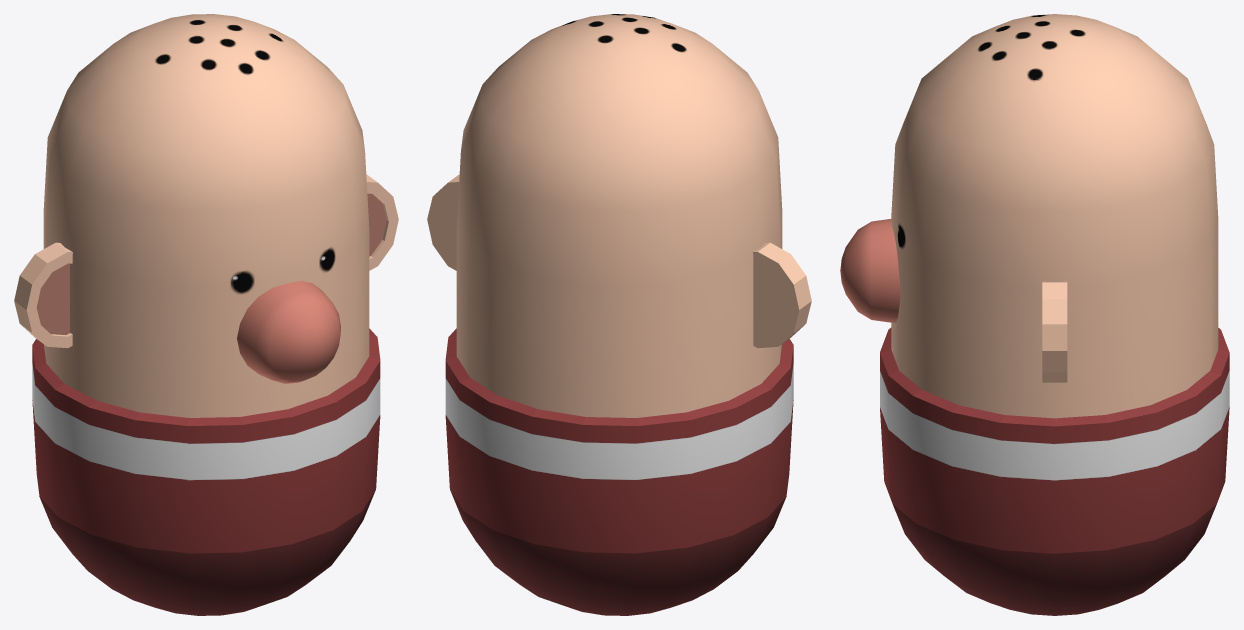
File: orangbotak.fbx
3 renders of one model, left to right at view 1: azimuth 30°, elevation 25°; view 2: azimuth 150°, elevation 25°; view 3: azimuth 270°, elevation 25°, orthographic.
Visible parts, largest first — view 1: orang botak; view 2: orang botak; view 3: orang botak.
Boxes of the visible parts, x1,y1,x2,y2 form: orang botak: (14, 14, 398, 615); orang botak: (427, 14, 811, 615); orang botak: (840, 14, 1229, 615).
Bounding box in the file's own units: 153 × 223 × 138.
Materials: 1 (1 with a texture image).
